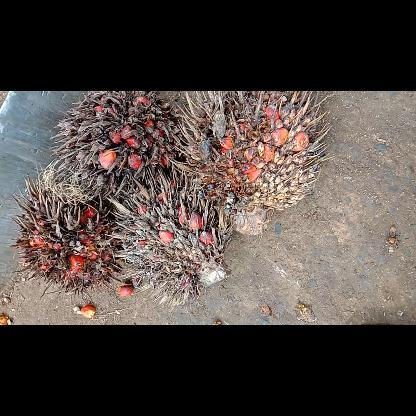Terlalu masak: (168, 90, 334, 235), (106, 168, 240, 308), (9, 160, 127, 300), (43, 90, 194, 196)
